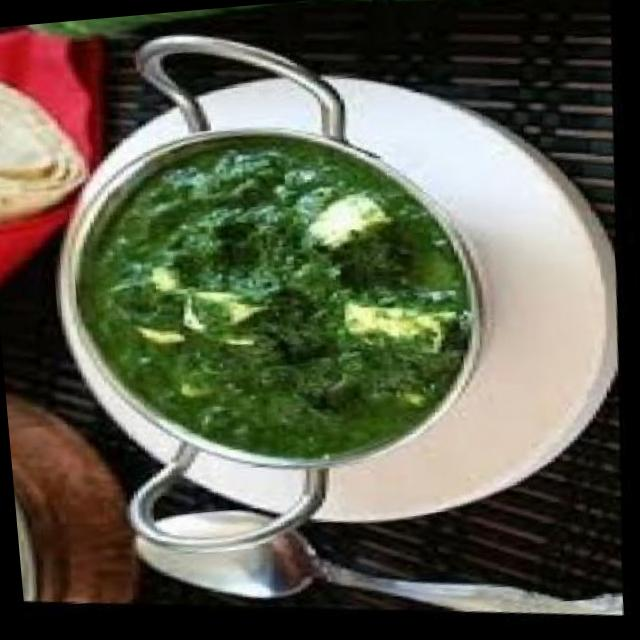palak_paneer: (62, 110, 500, 500)
